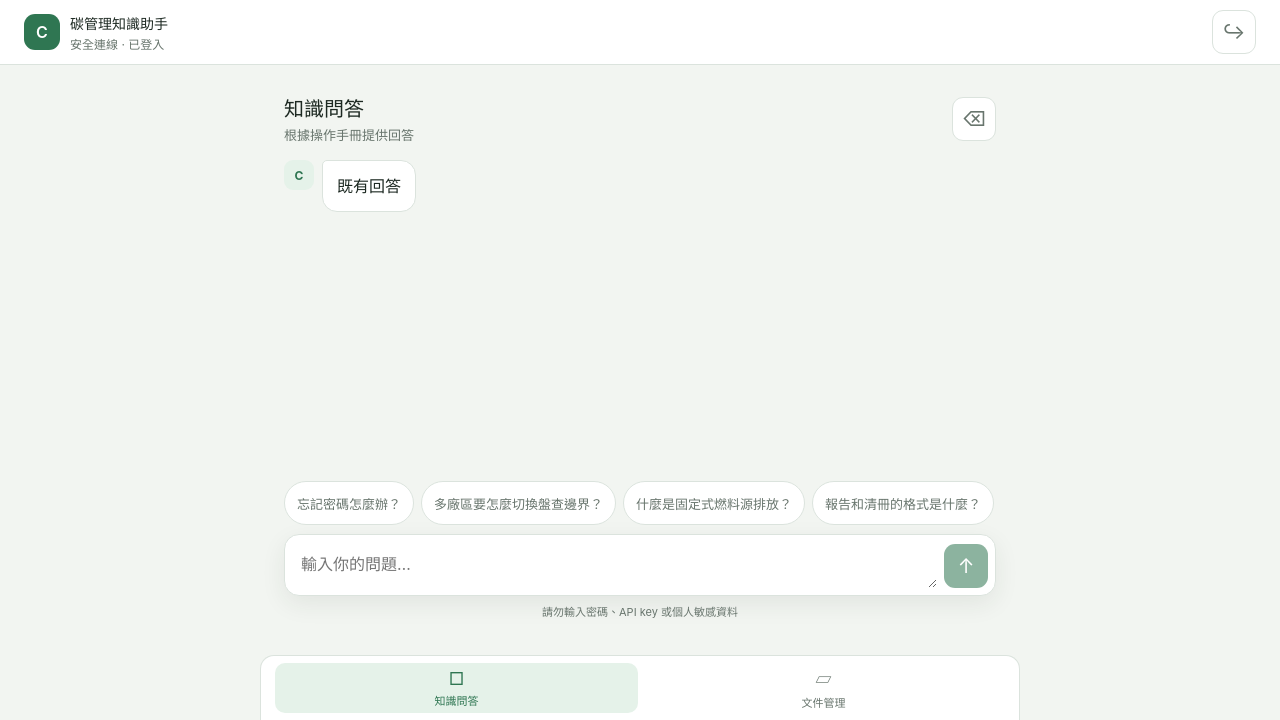
chat acceptance › restores history and only clears after server success
The width and height of the screenshot is (1280, 720).
Expected: the text box named "輸入問題" is enabled, [292,542,937,588]
Step 1. Click the button named "清除對話" → [974, 118], box [952,96,996,140]
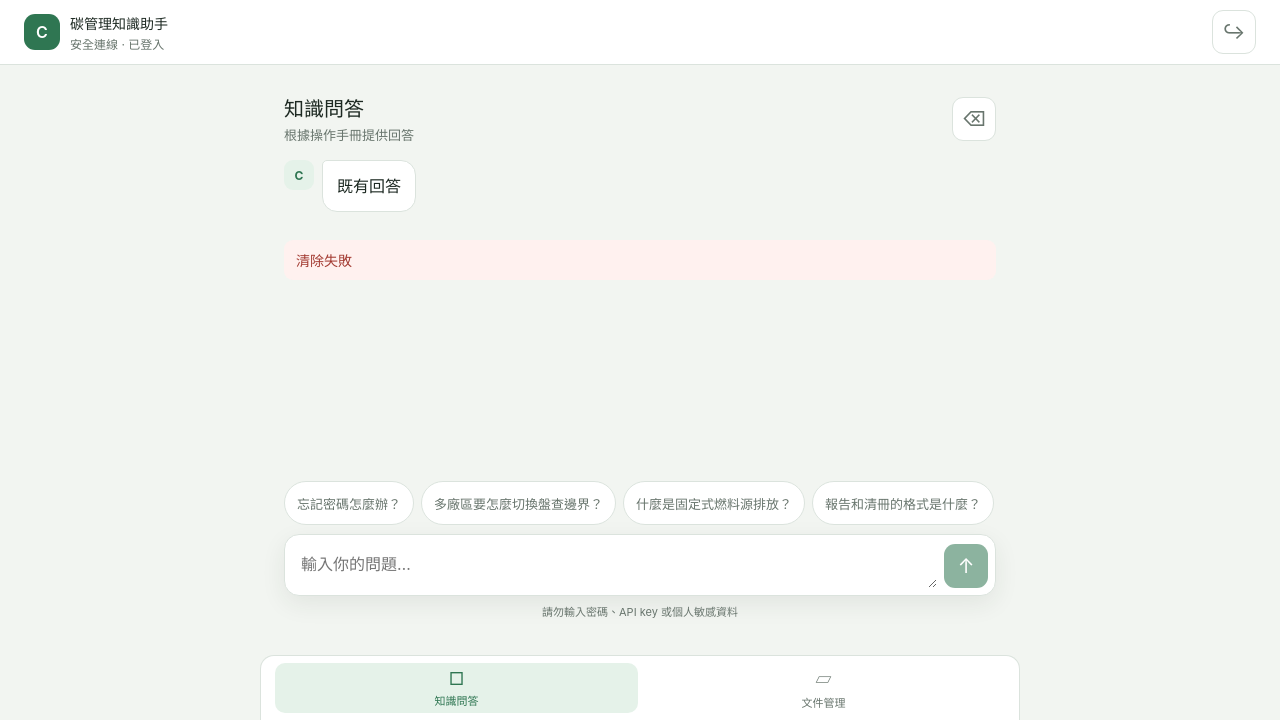
Expected: the text "既有回答" is shown, [337,173,401,199]
Now the message reads "清除失敗", box [296,252,352,269]
Step 2. Click the button named "清除對話" → [974, 118], box [952,96,996,140]
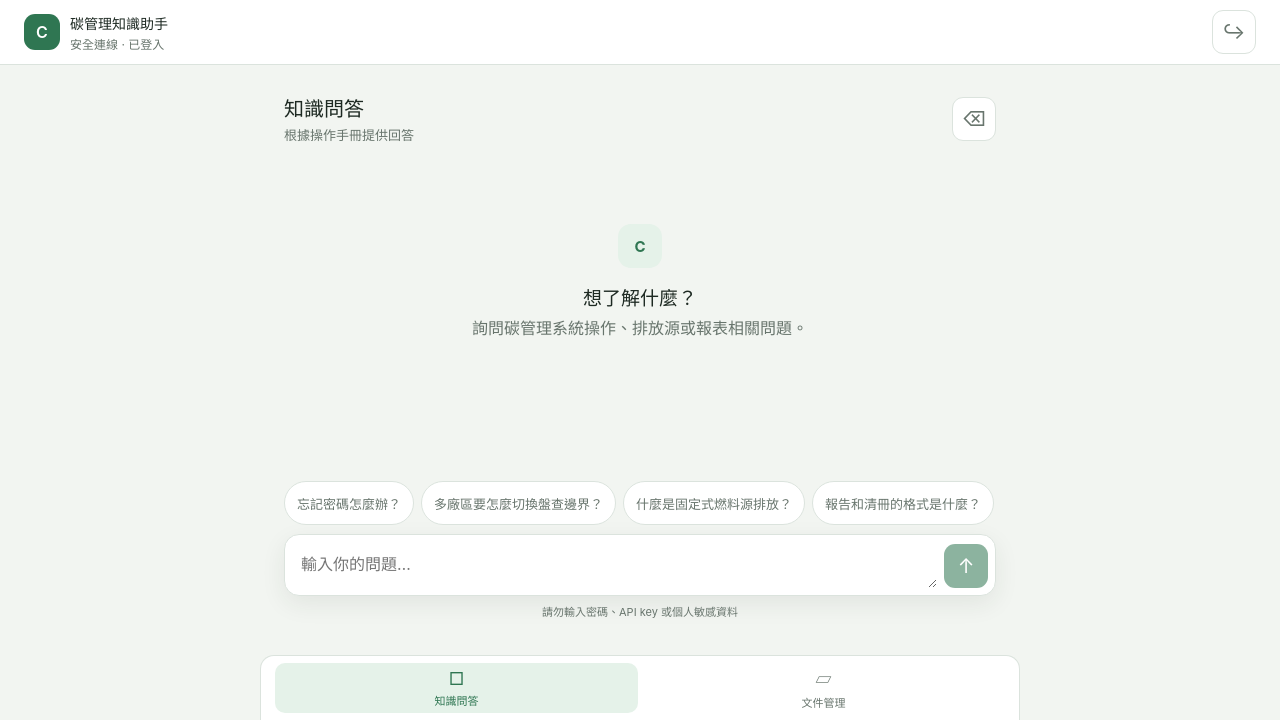
Now the text "既有回答" is gone
